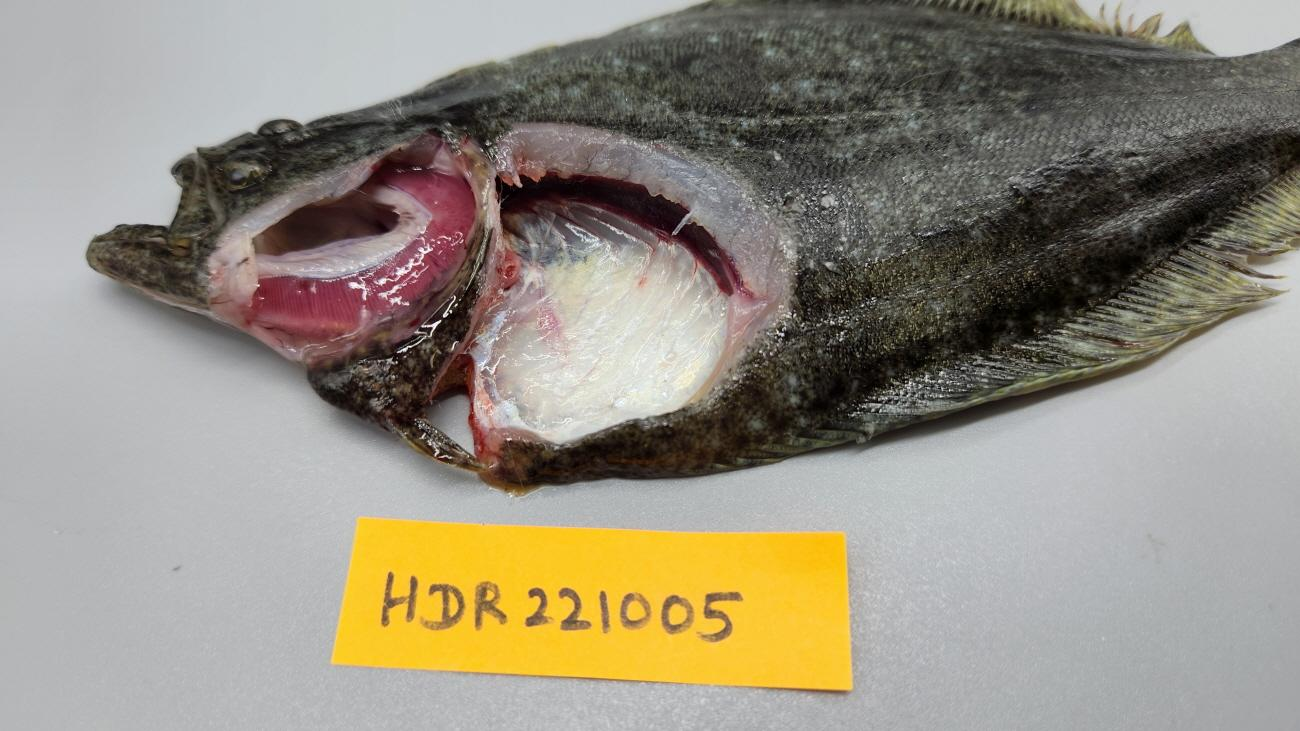POASN: (464, 201, 728, 445)
POKIN: (495, 170, 739, 294)
